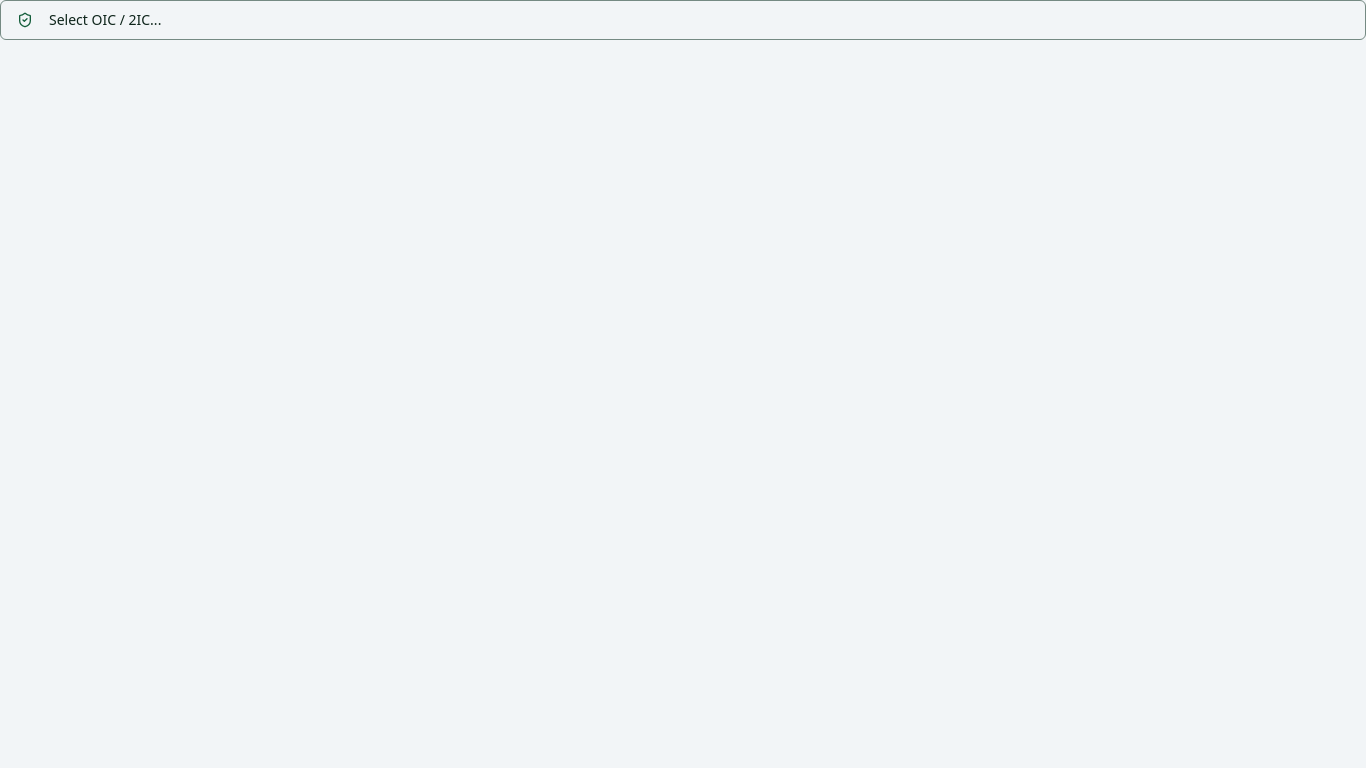
Scenario: AuthorisedByPicker — empty results & errors › Retry recovers the list when the query starts succeeding
Click the button "Select OIC / 2IC...". click: (105, 20)
box: [0,0,1365,40]
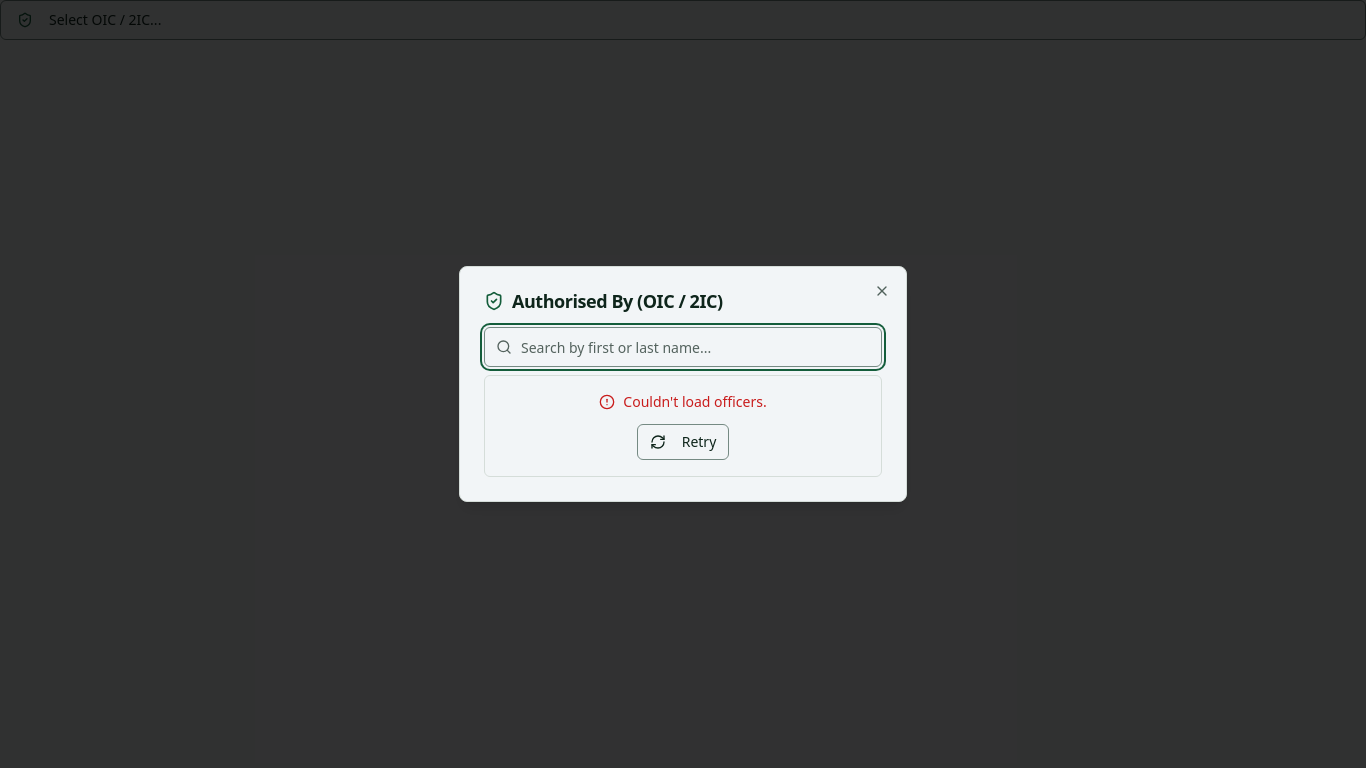
Expected: the text "Couldn't load officers." is shown, [623,392,767,412]
Click the button "Retry". click: (683, 442)
box: [637,424,729,460]
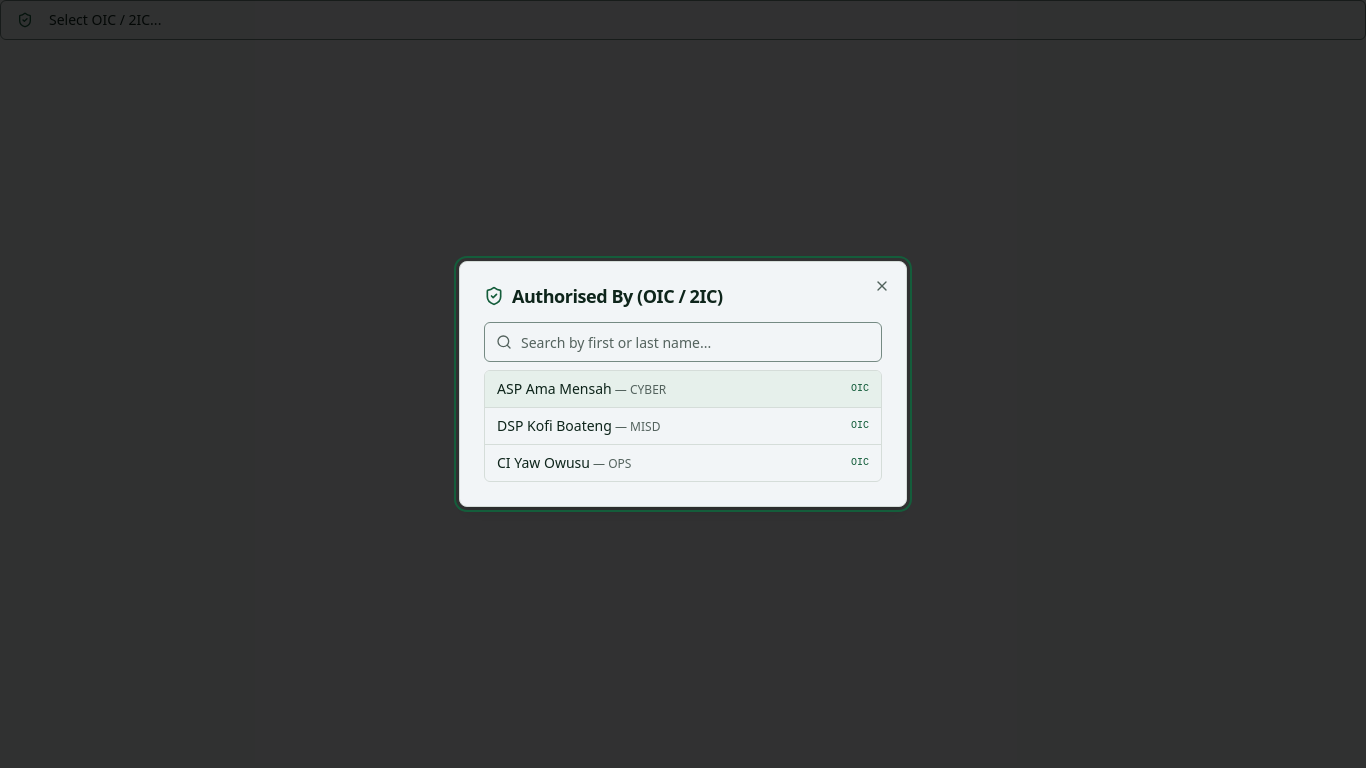
Expected: the text "ASP Ama Mensah — CYBER" is shown, [497,379,666,399]
Expected: the text "Couldn't load officers" is gone
Expected: the option "ASP Ama Mensah — CYBER oic" is shown, [485,371,881,407]
